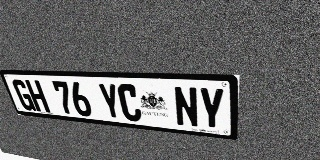6: (67, 82, 93, 117)
7: (51, 81, 77, 115)
C: (116, 84, 143, 122)
G: (11, 79, 36, 111)
H: (25, 80, 50, 113)
N: (173, 86, 199, 128)
Y: (198, 87, 224, 131), (97, 83, 123, 120)
